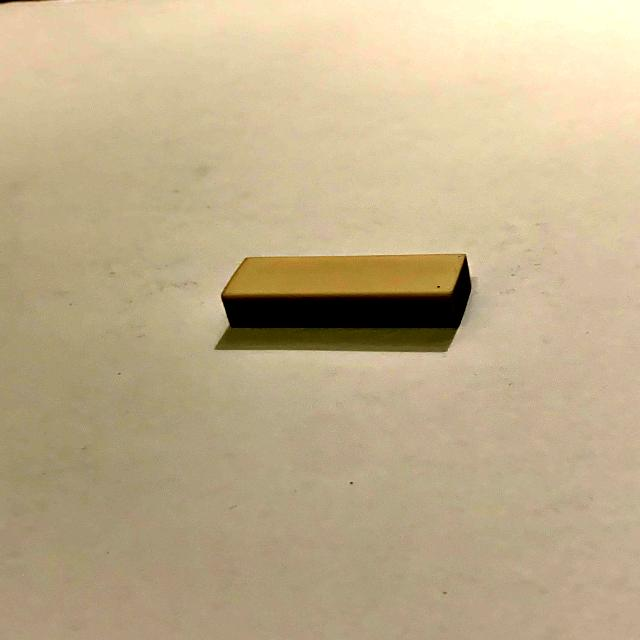Eraser: (197, 226, 508, 351)
